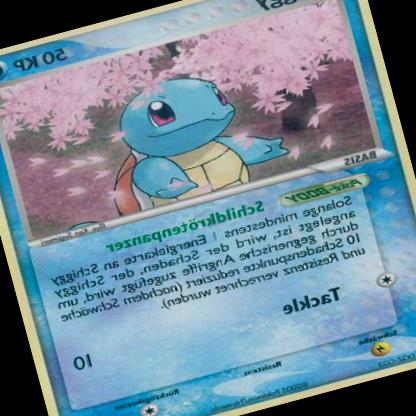Squirtle: (80, 55, 292, 221)
